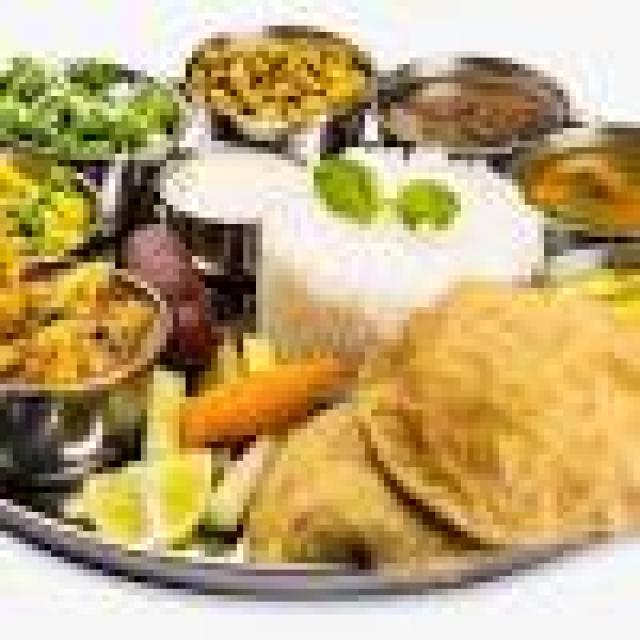curd: (145, 143, 301, 229)
papad: (0, 240, 172, 403)
rice: (269, 149, 524, 330)
roti: (276, 285, 640, 567)
sweet: (115, 222, 211, 291)
veg: (189, 23, 372, 144)
veg-fry: (371, 56, 565, 162)
